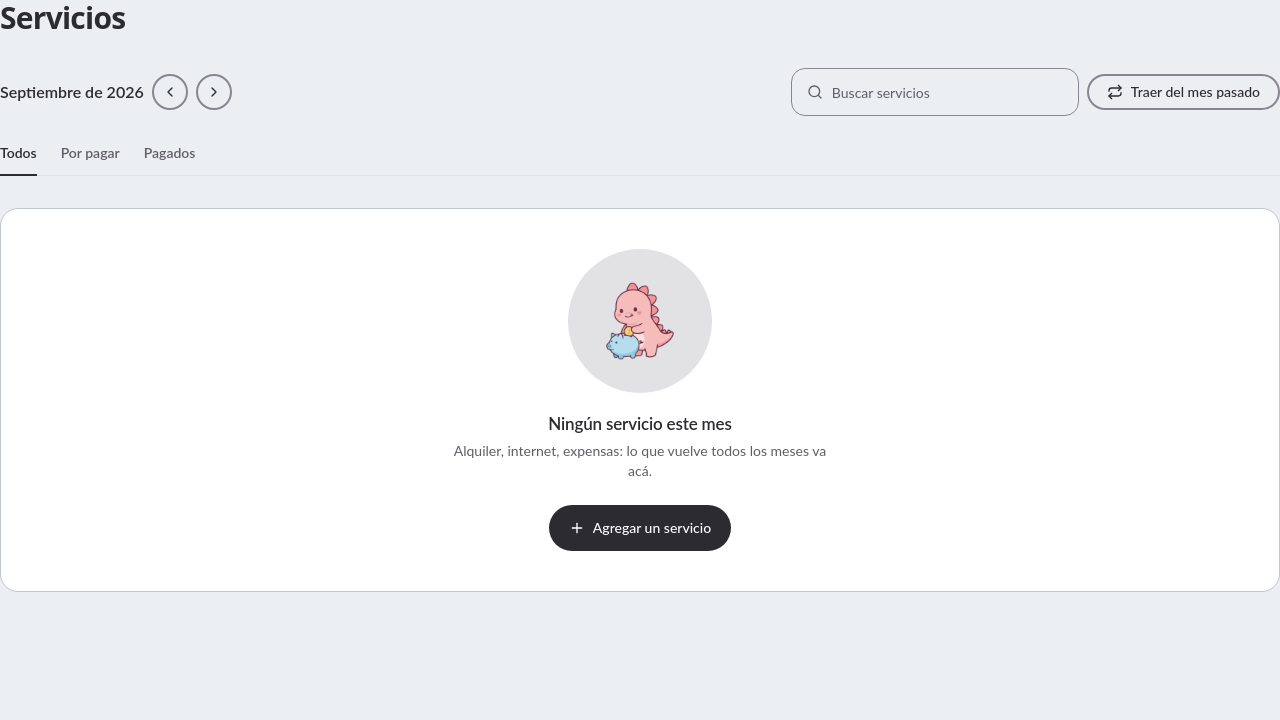
PendientesPage › opens the add-pendiente form from the empty state
Click the button "Agregar un servicio" at (640, 528), box [549, 505, 731, 551]
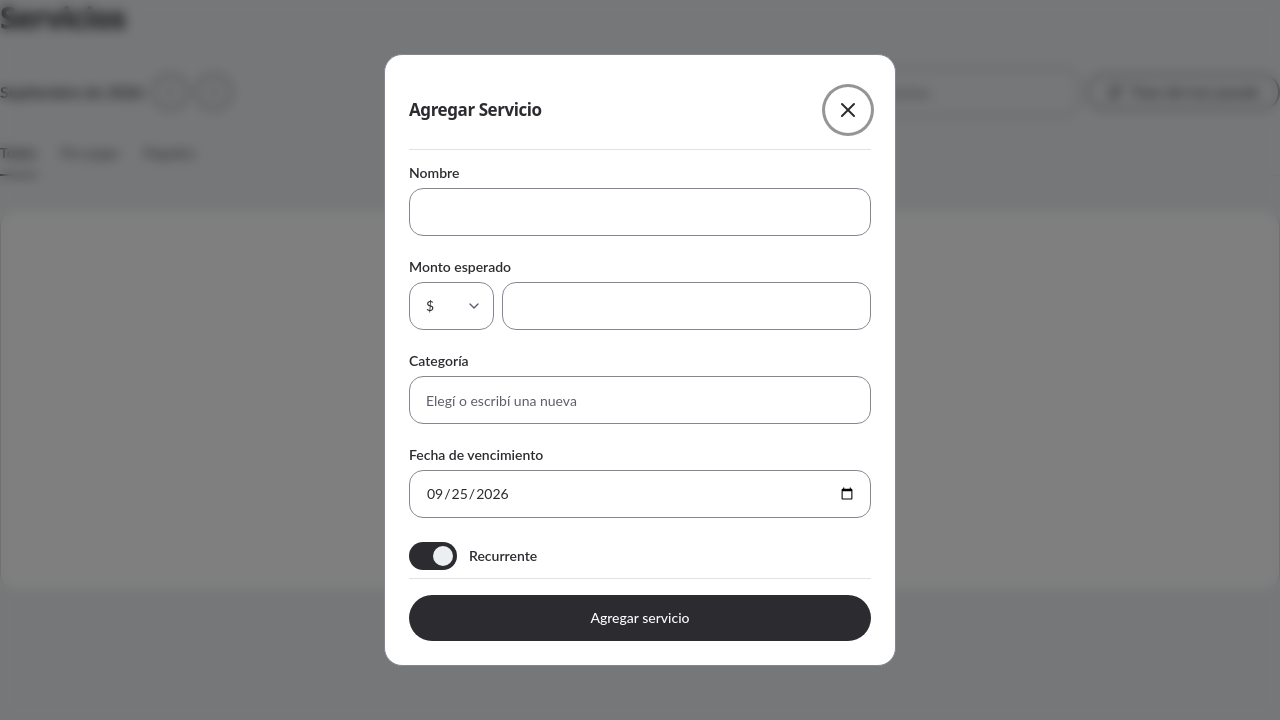
Result: the field labelled "Nombre" is shown at [409, 188, 871, 236]
